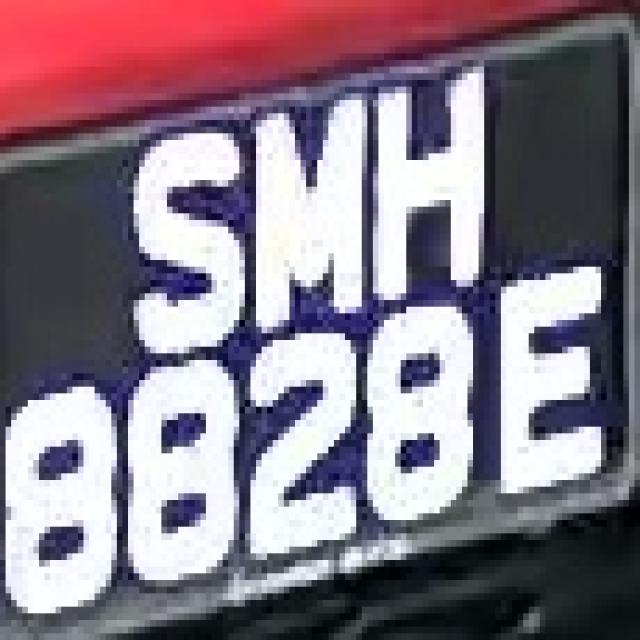2: (245, 320, 373, 580)
8: (122, 347, 245, 613), (11, 367, 123, 633), (373, 300, 484, 547)
E: (484, 247, 612, 513)
H: (390, 33, 490, 307)
M: (245, 66, 378, 326)
S: (111, 120, 245, 360)
